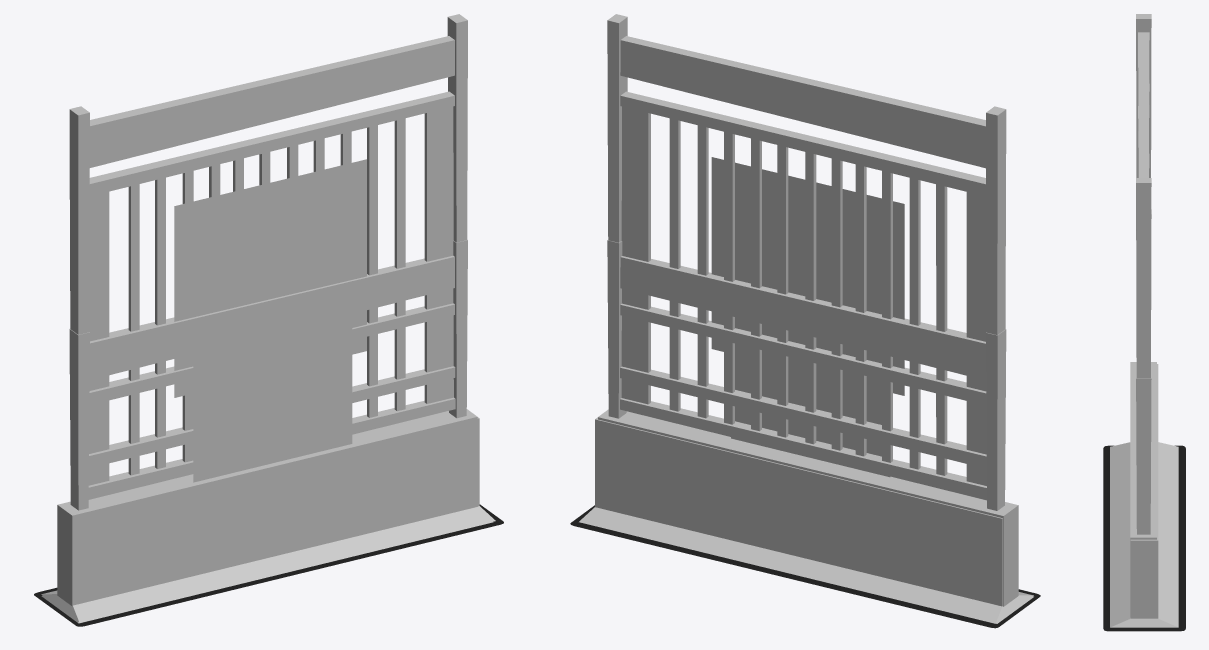
File: fence barriers.fbx
3 renders of one model, left to right at view 1: azimuth 30°, elevation 25°; view 2: azimuth 150°, elevation 25°; view 3: azimuth 270°, elevation 25°, orthographic. The views are drawn at different scales.
Visible parts, largest first — view 1: fence_barrier_2, fence_barrier_1, fence_barrier_shadow; view 2: fence_barrier_2, fence_barrier_1, fence_barrier_shadow; view 3: fence_barrier_2, fence_barrier_shadow, fence_barrier_1.
Boxes of the visible parts, x1,y1,x2,y2 form: fence_barrier_2: [41, 14, 495, 622]; fence_barrier_1: [41, 240, 493, 623]; fence_barrier_shadow: [34, 504, 503, 626]; fence_barrier_2: [579, 14, 1033, 623]; fence_barrier_1: [607, 240, 1033, 623]; fence_barrier_shadow: [570, 505, 1040, 628]; fence_barrier_2: [1110, 14, 1178, 627]; fence_barrier_shadow: [1103, 445, 1185, 631]; fence_barrier_1: [1130, 209, 1151, 616].
Size of the model in its own units: 215 by 225 by 48.13.
